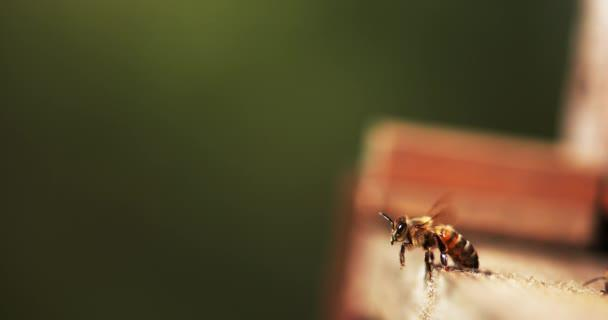bee: (392, 217, 480, 269)
